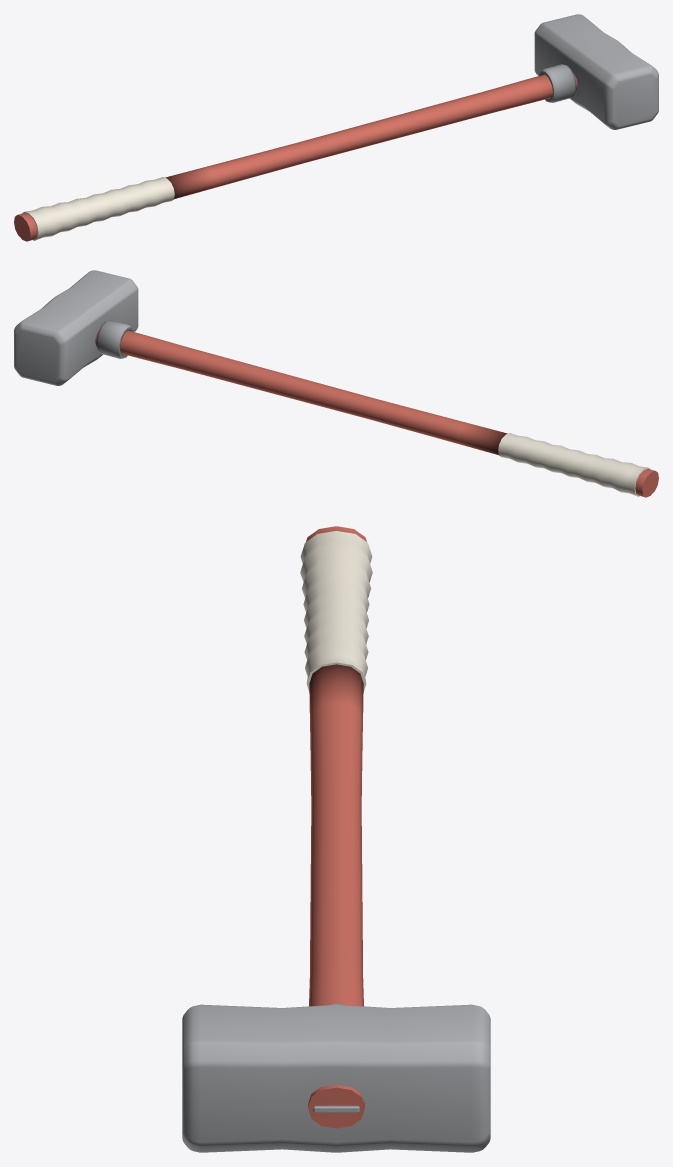
The model's file is hammer.glb.
3 renders of one model, top to bottom at view 1: azimuth 30°, elevation 25°; view 2: azimuth 150°, elevation 25°; view 3: azimuth 270°, elevation 25°, orthographic. The views are drawn at different scales.
Visible parts, largest first — view 1: PART; view 2: PART; view 3: PART.
Part boxes in pixels (<box>): PART: <box>14,14,658,241</box>; PART: <box>14,270,658,497</box>; PART: <box>182,526,490,1152</box>.
Size of the model in its own units: 0.909 by 0.0808 by 0.2.
